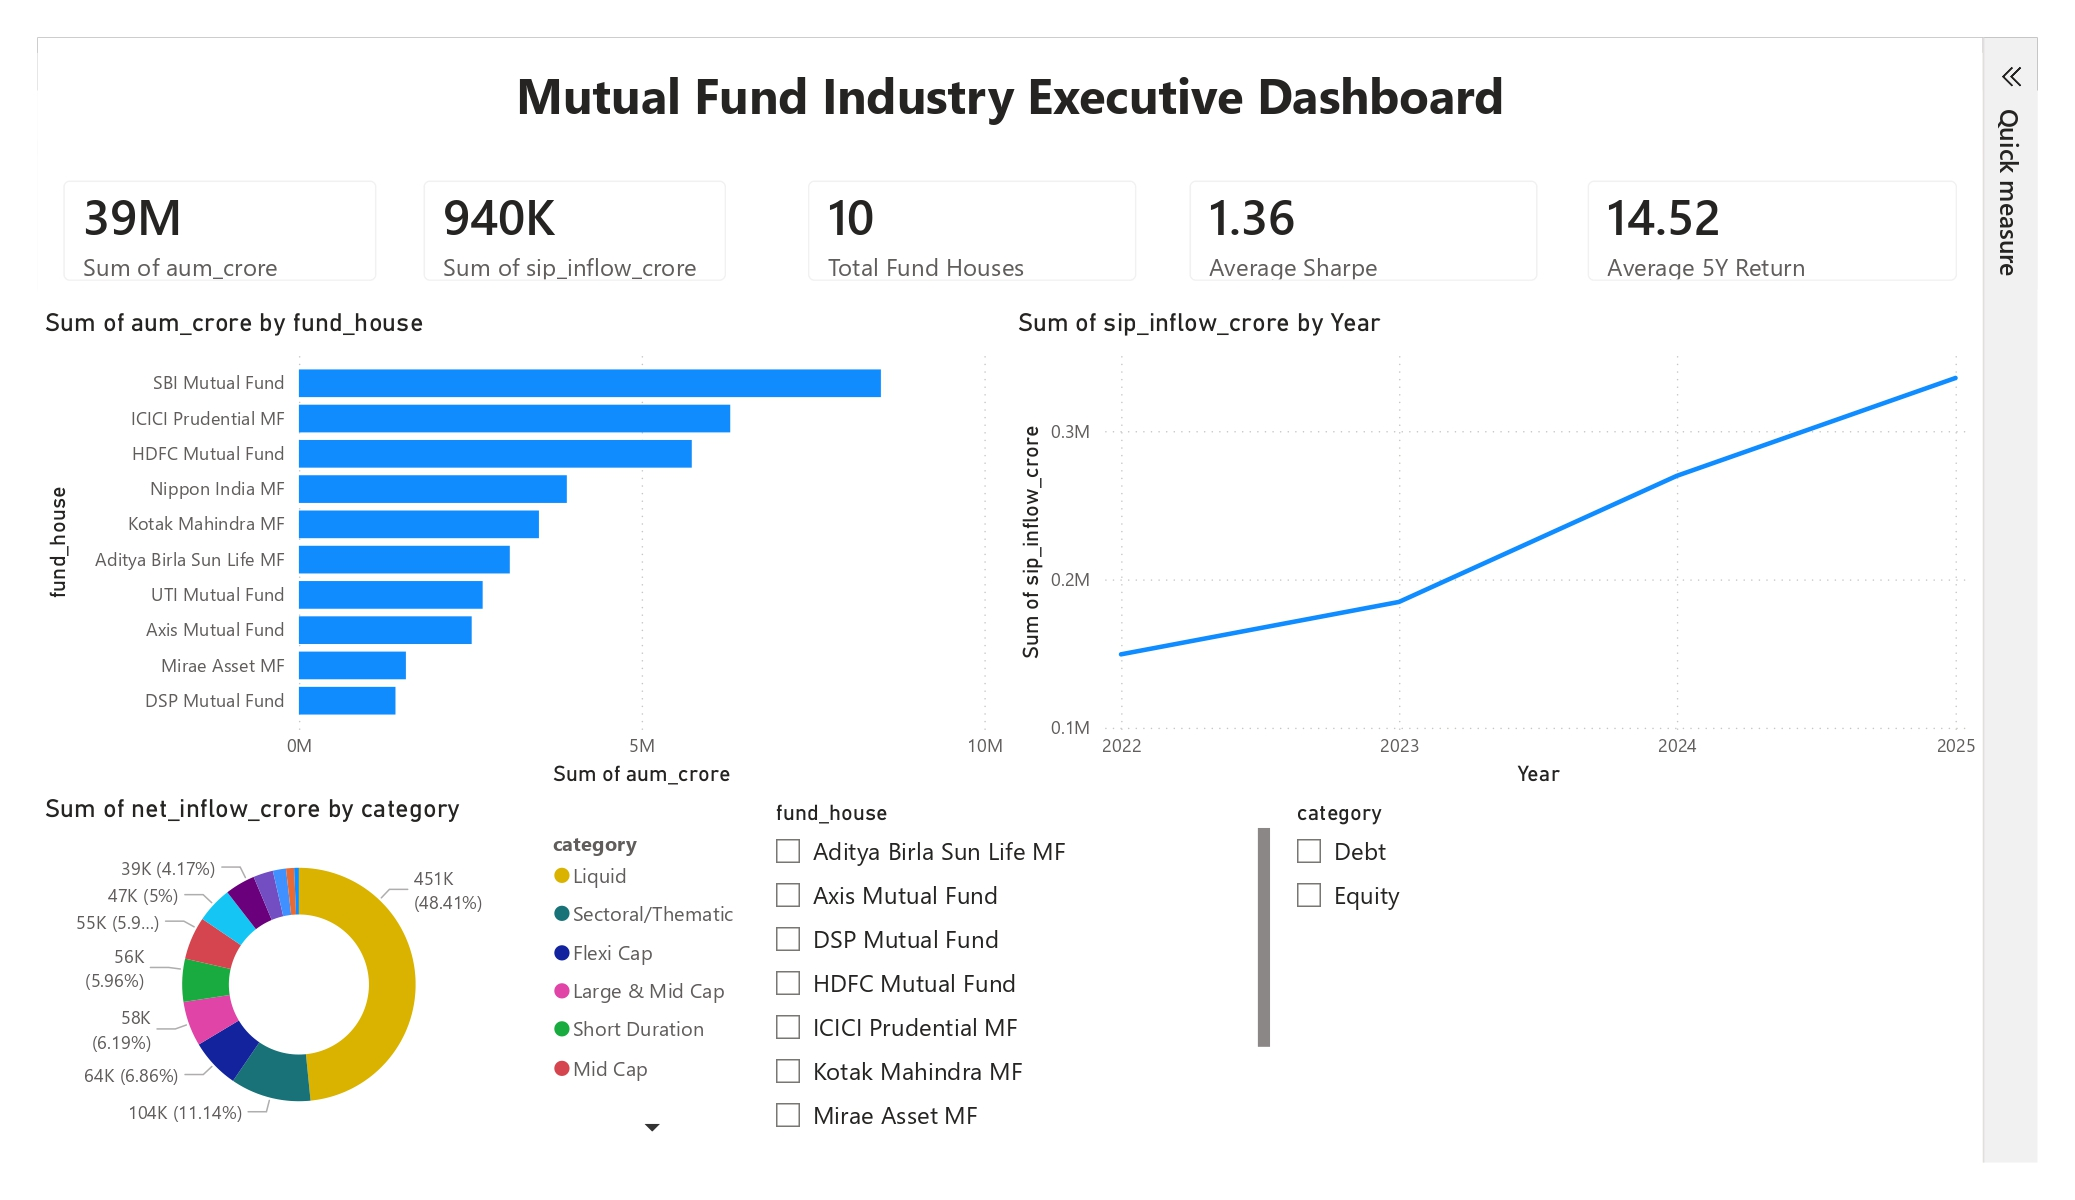

What the dashboard file says about the page in this screenshot:
{"tool":"powerbi","page":{"name":"Executive Overview Dashboard","canvas":[1280,720],"ordinal":0},"visuals":[{"type":"cardVisual","fields":{"Data":["Sum(aum_data_clean.aum_crore)"]},"box":[0,67.1,240,100],"z":0},{"type":"cardVisual","fields":{"Data":["Sum(sip_data_clean.sip_inflow_crore)"]},"box":[237.1,67.1,232.9,100],"z":1000},{"type":"cardVisual","fields":{"Data":["aum_data_clean.Total Fund Houses"]},"box":[490,67.1,250,100],"z":2000},{"type":"cardVisual","fields":{"Data":["scheme_performance_clean.Average Sharpe"]},"box":[741.4,67.1,262.9,100],"z":3000},{"type":"cardVisual","fields":{"Data":["scheme_performance_clean.Average 5Y Return"]},"box":[1002.9,67.1,277.1,100],"z":4000},{"type":"clusteredBarChart","fields":{"Y":["Sum(aum_data_clean.aum_crore)"],"Category":["aum_data_clean.fund_house"]},"box":[0,167.1,640,320],"z":5000},{"type":"lineChart","fields":{"Category":["sip_data_clean.month.Variation.Date Hierarchy.Year","sip_data_clean.month.Variation.Date Hierarchy.Quarter","sip_data_clean.month.Variation.Date Hierarchy.Month","sip_data_clean.month.Variation.Date Hierarchy.Day"],"Y":["Sum(sip_data_clean.sip_inflow_crore)"]},"box":[640,167.1,640,320],"z":6000},{"type":"donutChart","fields":{"Category":["category_inflows_clean.category"],"Y":["Sum(category_inflows_clean.net_inflow_crore)"]},"box":[0,487.1,472.9,232.9],"z":7000},{"type":"slicer","fields":{"Values":["fund_master_clean.fund_house"]},"box":[472.9,487.1,342.9,232.9],"z":8000},{"type":"slicer","fields":{"Values":["fund_master_clean.category"]},"box":[815.7,487.1,112.9,87.1],"z":9000},{"type":"textbox","box":[0,0,1280,57.1],"z":10000}]}

Visuals, with their boxes on the page's 1280x720 design canvas (x1, y1, x2, y2). These are canvas units, not pixel positions in the 2075x1200 screenshot, which may show the page scaled, cropped or inside an application window:
cardVisual - Sum(aum_data_clean.aum_crore): region(0, 67, 240, 167)
cardVisual - Sum(sip_data_clean.sip_inflow_crore): region(237, 67, 470, 167)
cardVisual - aum_data_clean.Total Fund Houses: region(490, 67, 740, 167)
cardVisual - scheme_performance_clean.Average Sharpe: region(741, 67, 1004, 167)
cardVisual - scheme_performance_clean.Average 5Y Return: region(1003, 67, 1280, 167)
clusteredBarChart - Sum(aum_data_clean.aum_crore) x aum_data_clean.fund_house: region(0, 167, 640, 487)
lineChart - sip_data_clean.month.Variation.Date Hierarchy.Year x sip_data_clean.month.Variation.Date Hierarchy.Quarter: region(640, 167, 1280, 487)
donutChart - category_inflows_clean.category x Sum(category_inflows_clean.net_inflow_crore): region(0, 487, 473, 720)
slicer - fund_master_clean.fund_house: region(473, 487, 816, 720)
slicer - fund_master_clean.category: region(816, 487, 929, 574)
textbox: region(0, 0, 1280, 57)
